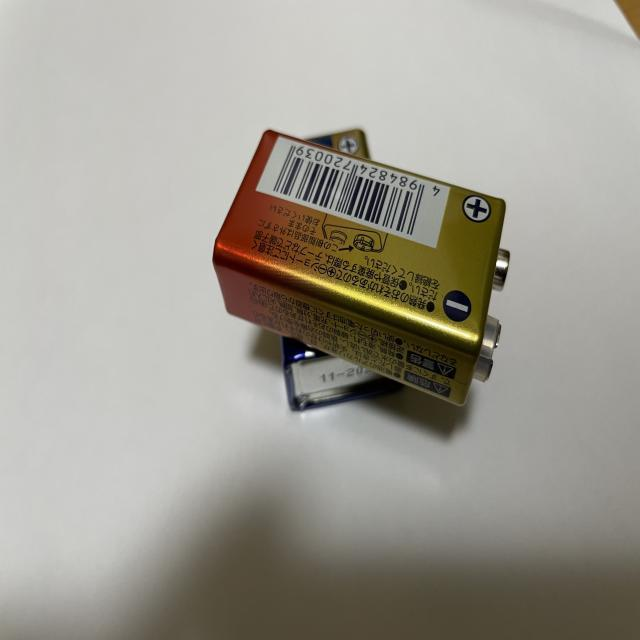9V: (212, 127, 512, 409), (281, 127, 412, 423)
